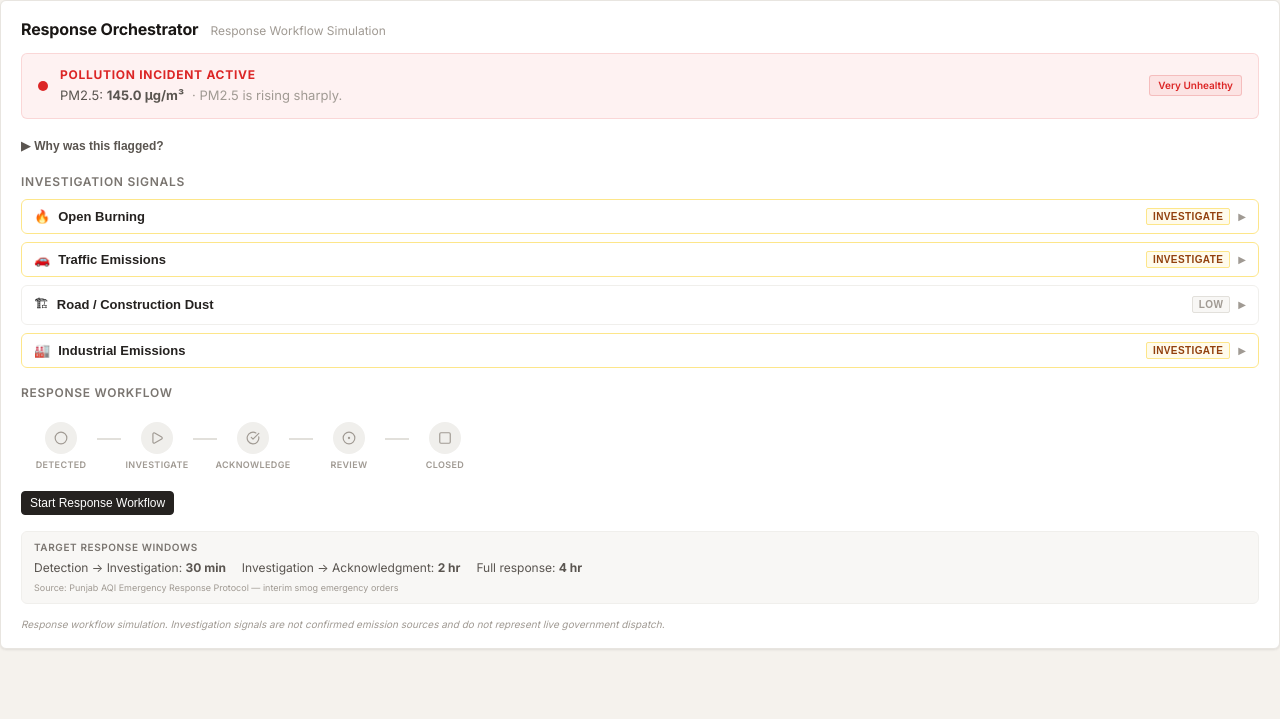
Test: ResponseOrchestrator › evidence drawer › toggles the "Why was this flagged?" drawer
The width and height of the screenshot is (1280, 719).
Expected: the text "Trend:" is not shown
Note: Open the drawer
Click the button "▶ Why was this flagged?": (92, 146) [21, 134, 164, 156]
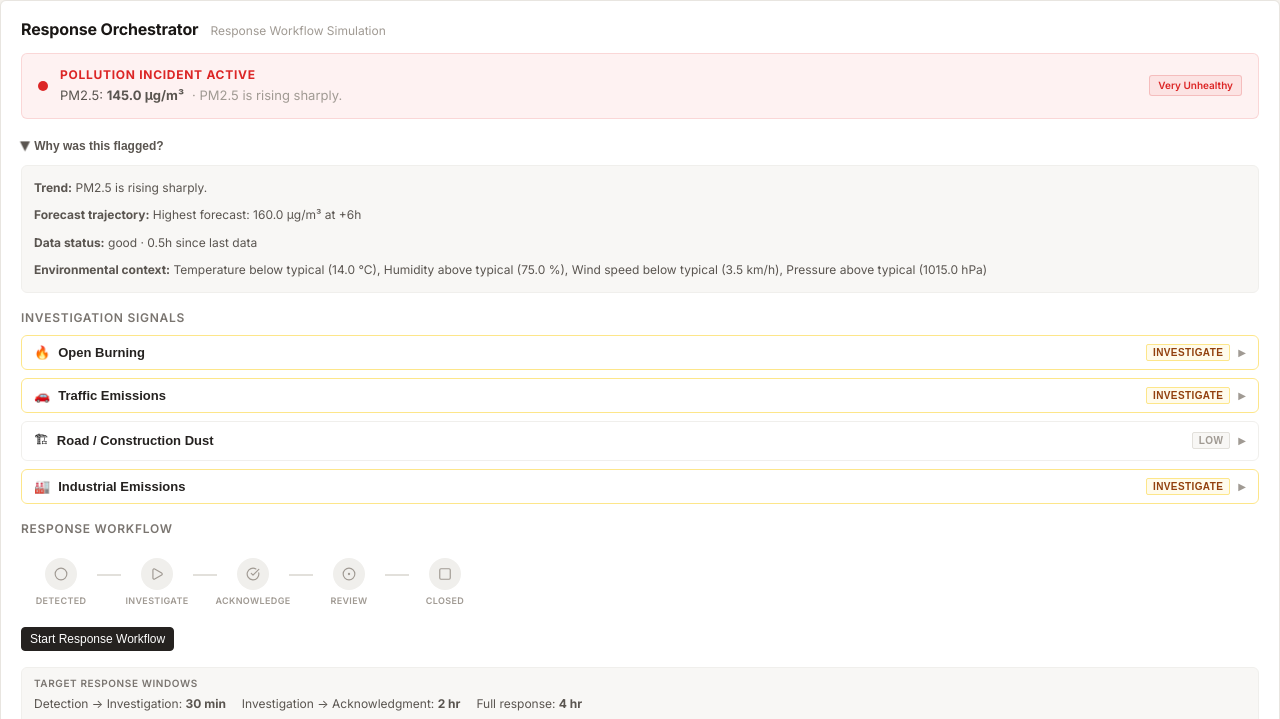
Now the text "Trend:" is shown, box [34, 180, 72, 194]
Now the text "Forecast trajectory:" is shown, box [34, 207, 149, 222]
Now the text "Data status:" is shown, box [34, 234, 105, 250]
Note: Close it
Click the button "▶ Why was this flagged?": (92, 146) [21, 134, 164, 156]
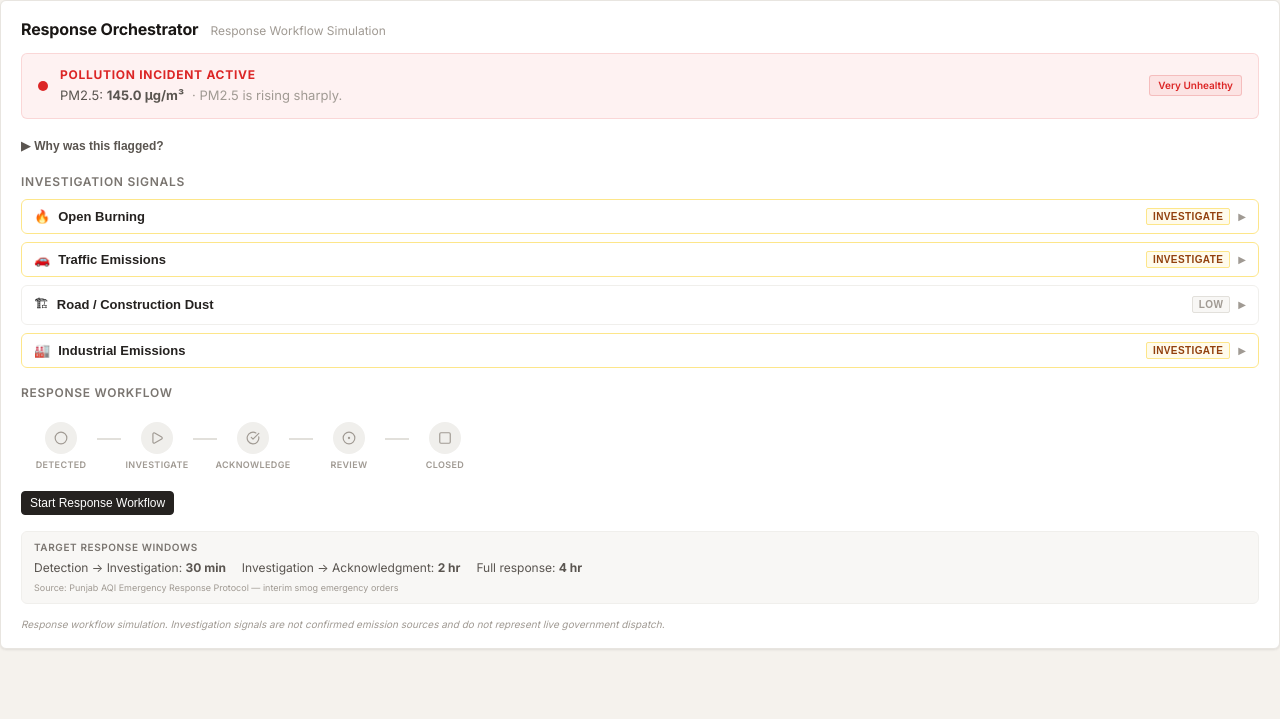
Now the text "Trend:" is gone
